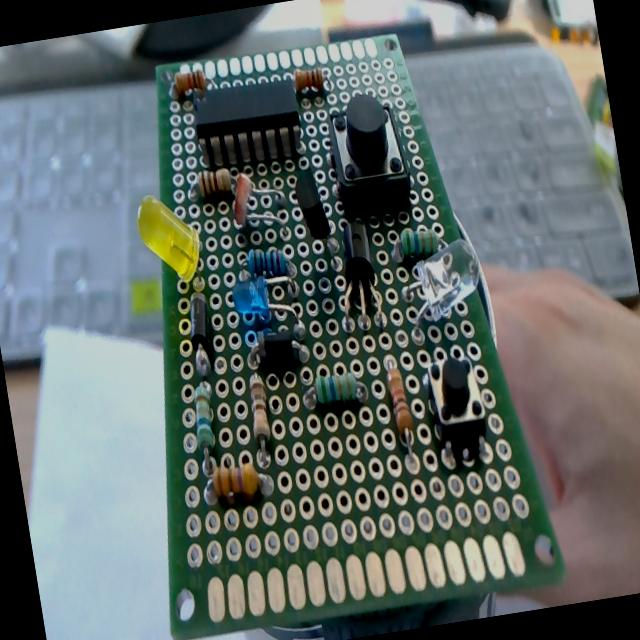IC: (192, 73, 306, 168)
cds: (231, 176, 287, 232)
diode: (181, 289, 220, 381), (248, 329, 310, 377)
led: (396, 233, 491, 339), (132, 187, 205, 287), (230, 269, 304, 330)
resistor: (188, 378, 225, 481), (382, 363, 415, 446), (210, 459, 263, 505), (245, 373, 275, 451), (313, 369, 360, 409), (246, 243, 291, 281), (394, 224, 438, 262), (170, 64, 210, 102), (198, 166, 234, 199), (292, 65, 326, 97)
switch: (321, 88, 417, 224), (420, 348, 492, 466)
transistor: (327, 215, 387, 334), (290, 164, 333, 244)
